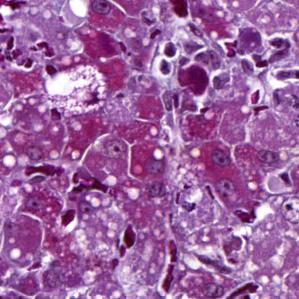ballooning: (45, 62, 107, 116)
